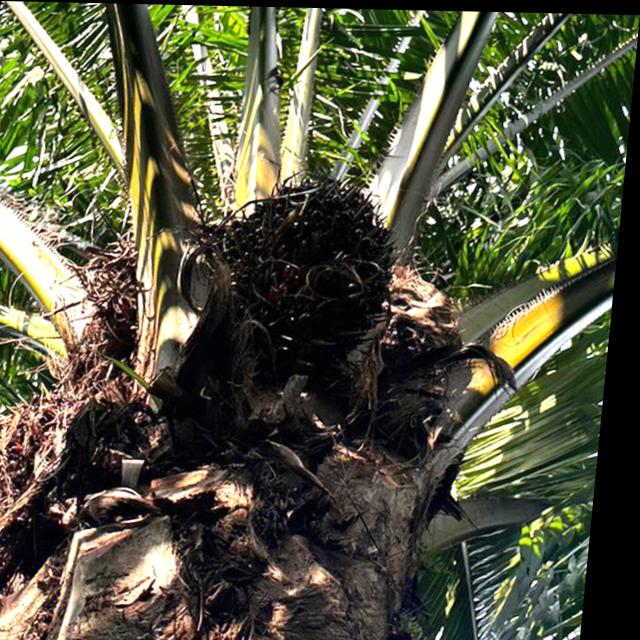ripe: (215, 153, 427, 357)
